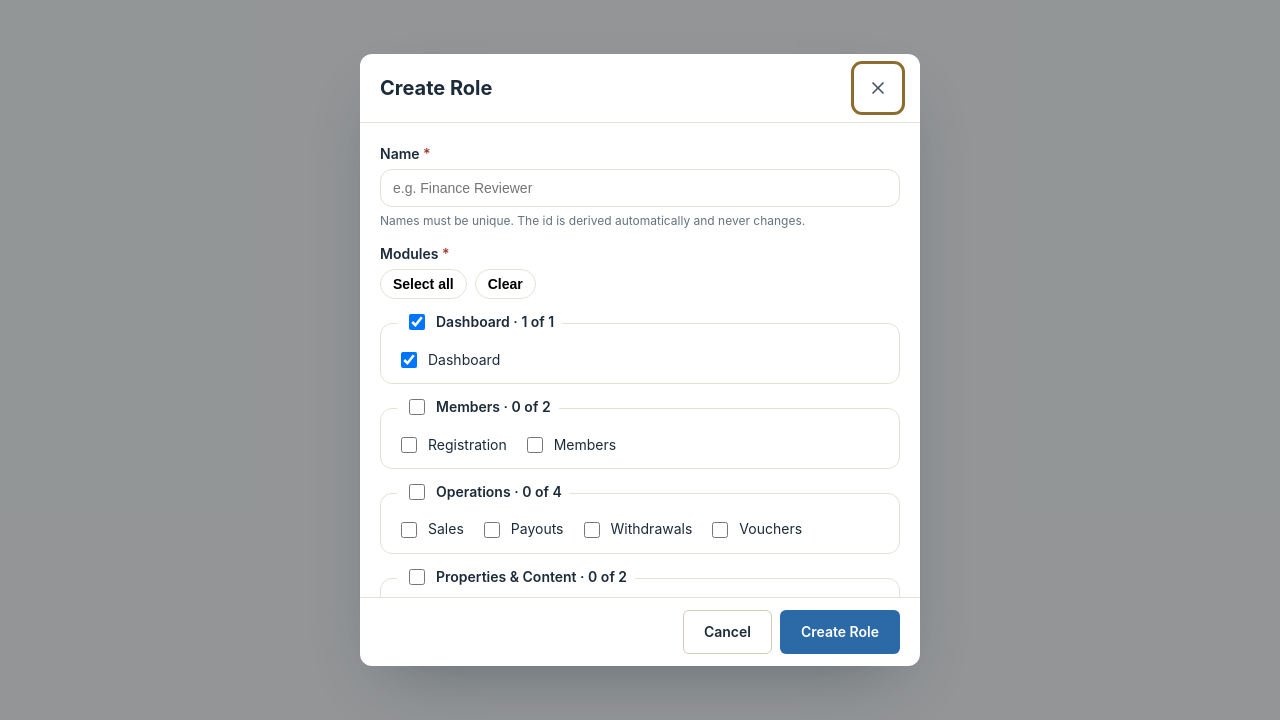
Test: RoleFormDialog › requires a name and at least one module
Click the checkbox labelled "Dashboard": x=409, y=360 [401,352,417,368]
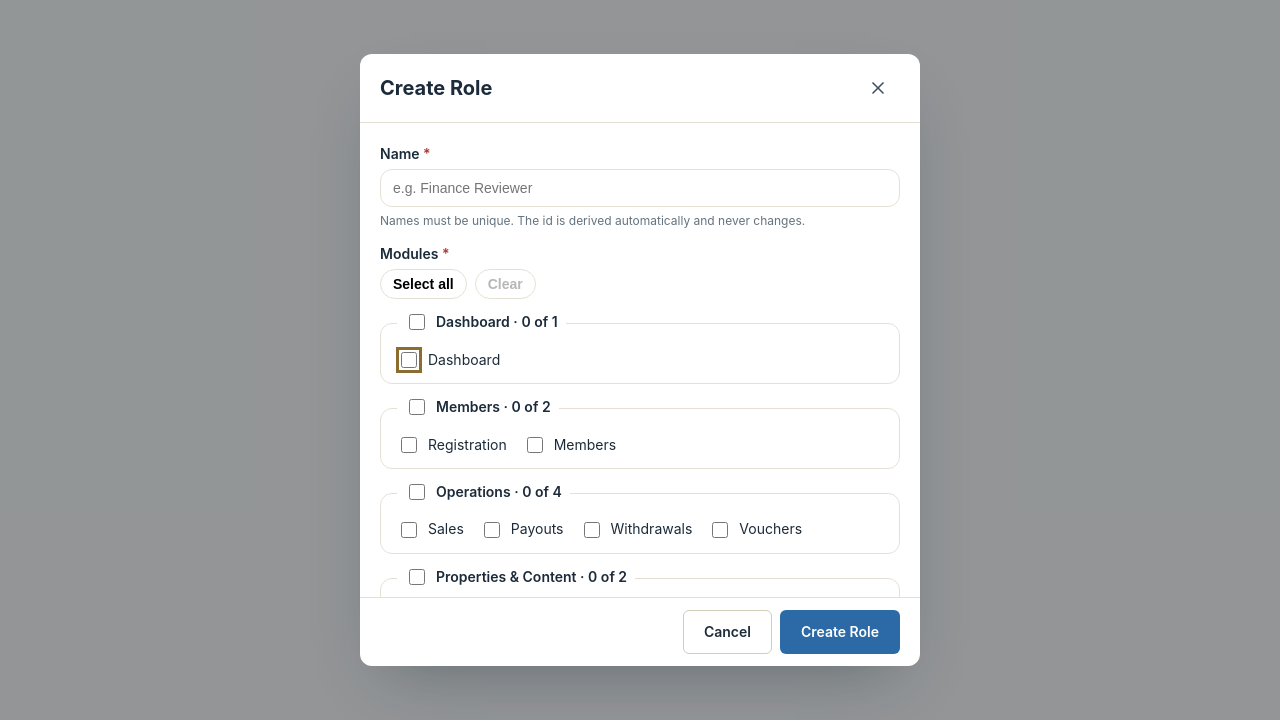
Click the button "Create Role": x=840, y=632 [780,610,900,654]
(page scrolled)
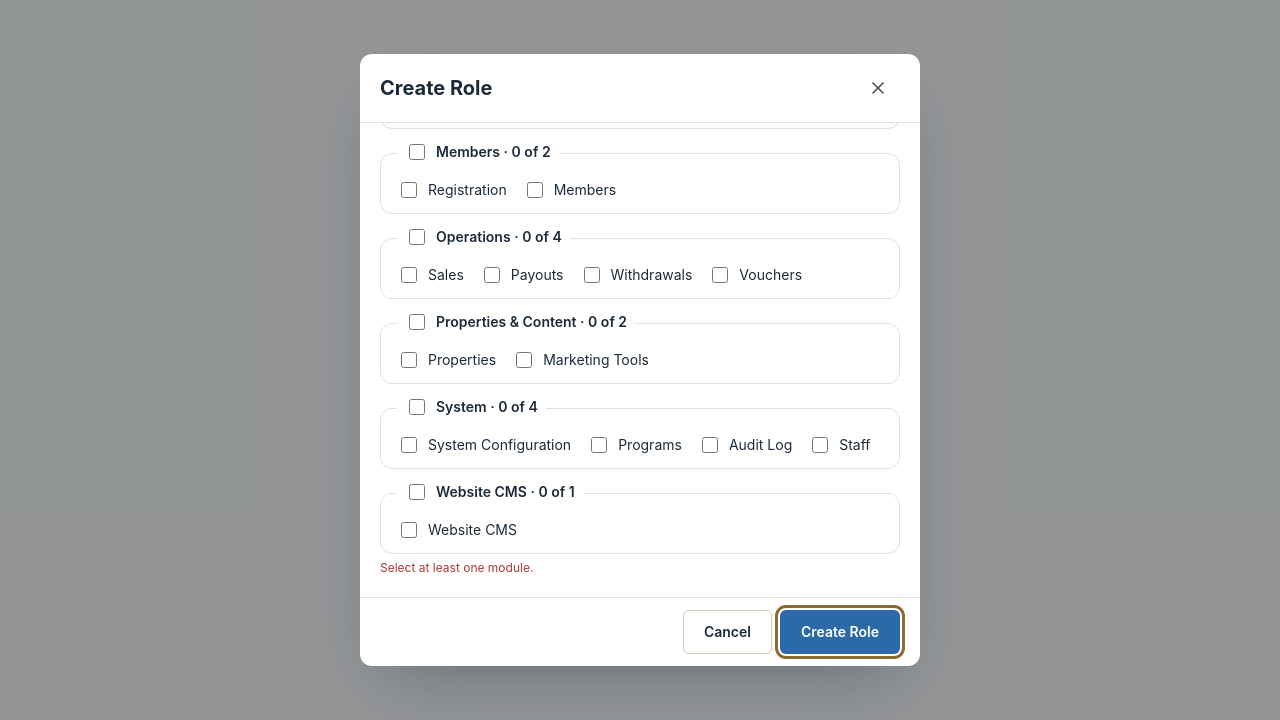
Result: the text "Select at least one module." is shown at [380,560,533,575]
